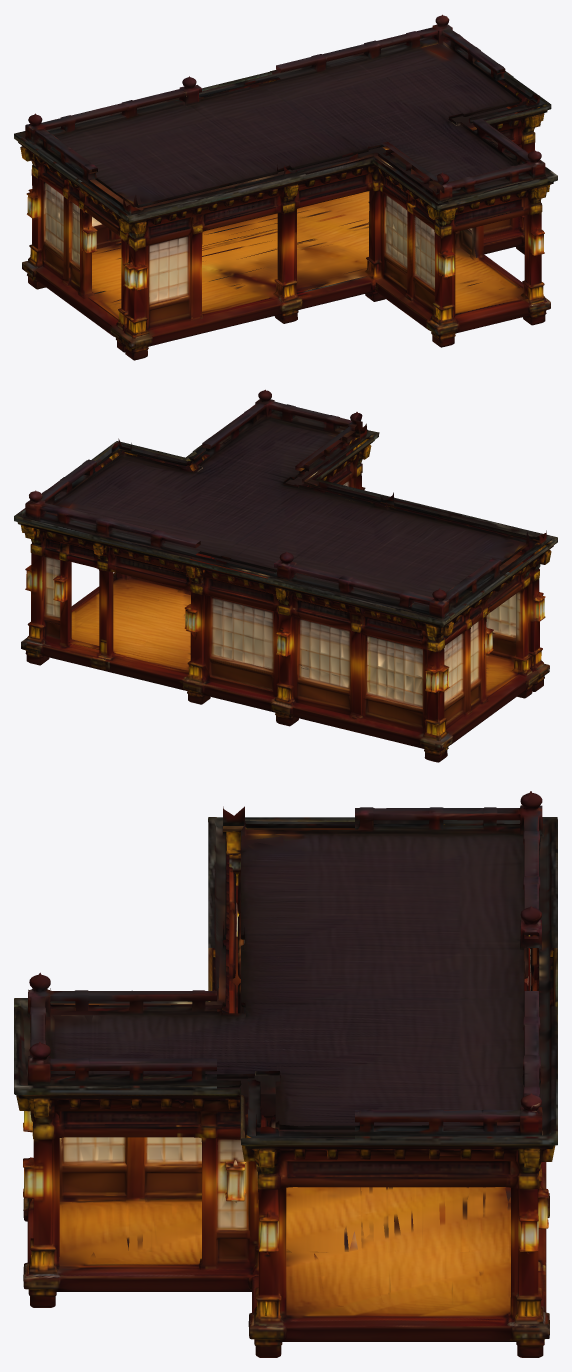
The model's file is HallWay3Way_Collision.fbx.
3 renders of one model, top to bottom at view 1: azimuth 30°, elevation 25°; view 2: azimuth 150°, elevation 25°; view 3: azimuth 270°, elevation 25°, orthographic. The views are drawn at different scales.
Visible parts, largest first — view 1: HallWay3Way_Collision; view 2: HallWay3Way_Collision; view 3: HallWay3Way_Collision.
Part boxes in pixels (left/top/right/bottom): HallWay3Way_Collision: left=14, top=14, right=557, bottom=360; HallWay3Way_Collision: left=14, top=389, right=557, bottom=762; HallWay3Way_Collision: left=14, top=791, right=557, bottom=1357.
Size of the model in its own units: 12.08 by 4.62 by 8.65.
Materials: 1 (1 with a texture image).
